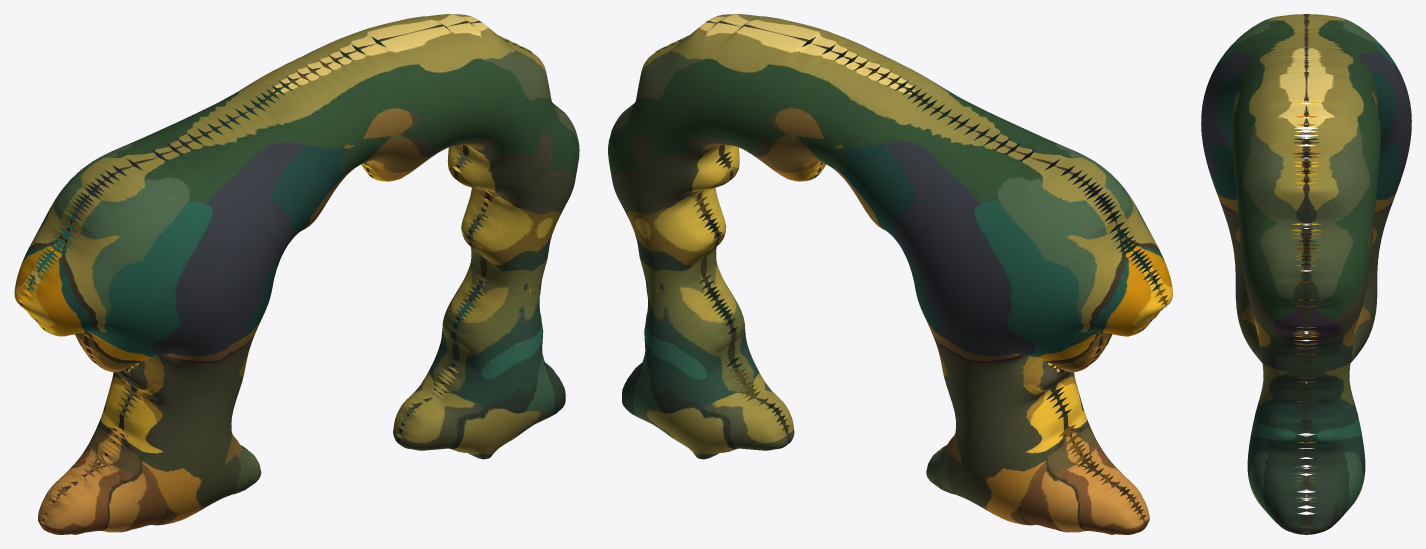
Rendered from stone_arch.glb.
The picture shows the model from 3 angles, left to right: view 1: azimuth 30°, elevation 25°; view 2: azimuth 150°, elevation 25°; view 3: azimuth 270°, elevation 25°; orthographic projection. The views are drawn at different scales.
Visible parts, largest first — view 1: stone_arch; view 2: stone_arch; view 3: stone_arch.
Boxes of the visible parts, x1,y1,x2,y2 form: stone_arch: (14, 14, 579, 534); stone_arch: (608, 14, 1172, 534); stone_arch: (1201, 14, 1411, 534).
Bounding box in the file's own units: 0.9887 × 0.7353 × 0.35.
1 material, 1 textured.
